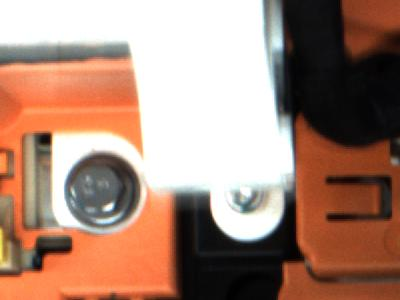nut_b: (62, 153, 144, 234)
